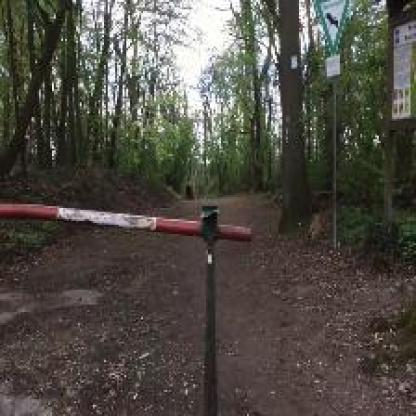other: (1, 177, 260, 256)
